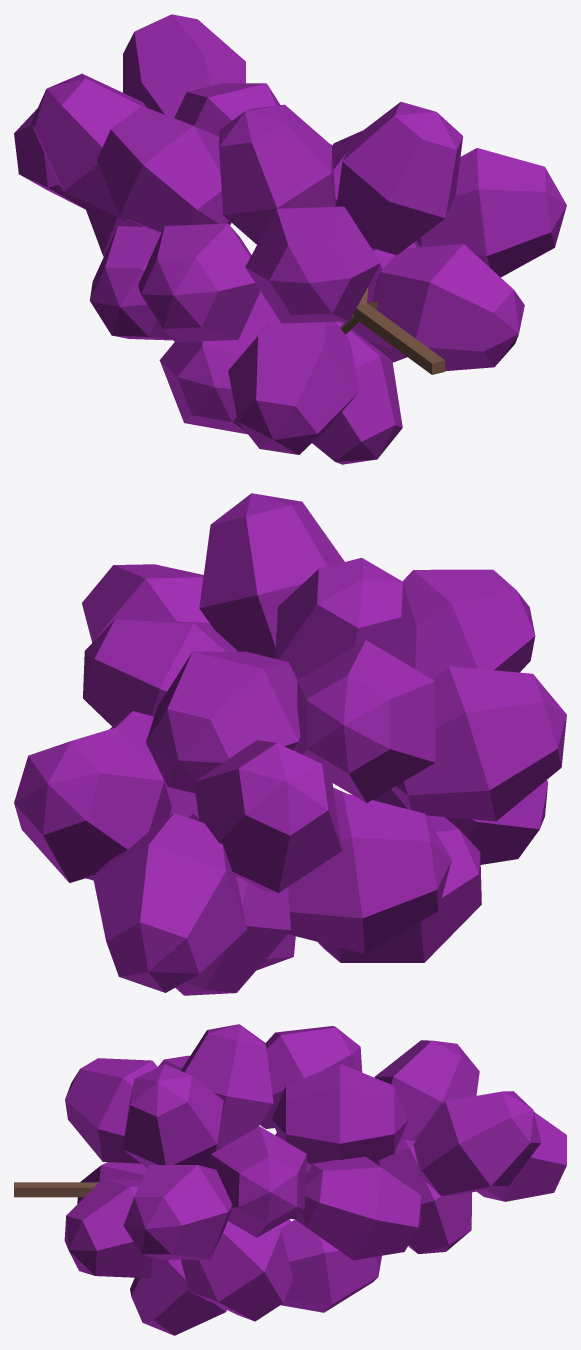
Rendered from grapes.glb.
The picture shows the model from 3 angles, top to bottom: view 1: azimuth 30°, elevation 25°; view 2: azimuth 150°, elevation 25°; view 3: azimuth 270°, elevation 25°; orthographic projection. The views are drawn at different scales.
Visible parts, largest first — view 1: node-0; view 2: node-0; view 3: node-0.
Boxes of the visible parts, x1,y1,x2,y2 form: node-0: [14, 14, 566, 464]; node-0: [14, 493, 566, 995]; node-0: [14, 1024, 566, 1335].
Bounding box in the file's own units: 63.26 × 51.3 × 90.7.
